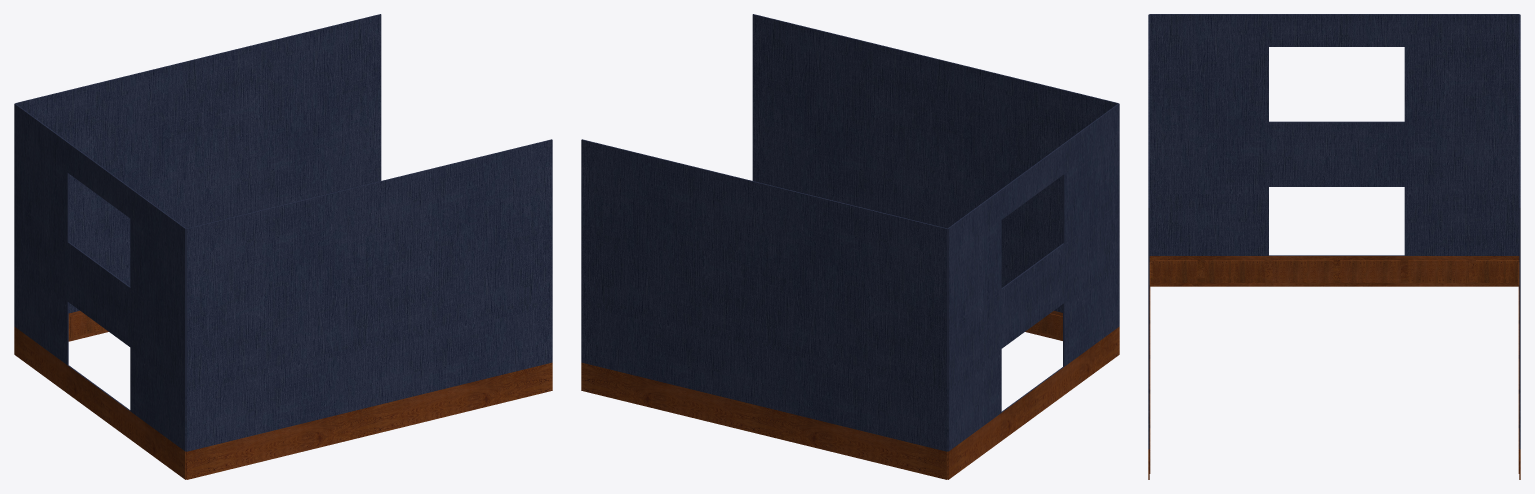
The model's file is WallsAgain.fbx.
The picture shows the model from 3 angles, left to right: view 1: azimuth 30°, elevation 25°; view 2: azimuth 150°, elevation 25°; view 3: azimuth 270°, elevation 25°; orthographic projection. The views are drawn at different scales.
Parts seen in each view (by area): view 1: Wall.015, Wall.001, Wall.003; view 2: Wall.001, Wall.015, Wall.003; view 3: Wall.003, Wall.001, Wall.015.
Part boxes in pixels (x1,y1,x2,y2): Wall.015: (186,139,552,479); Wall.001: (15,14,381,341); Wall.003: (14,103,186,479); Wall.001: (581,139,947,479); Wall.015: (752,14,1118,340); Wall.003: (946,103,1119,479); Wall.003: (1149,14,1519,286); Wall.001: (1518,14,1520,479); Wall.015: (1148,14,1150,479).
Bounding box in the file's own units: 1723 × 1128 × 1400.
